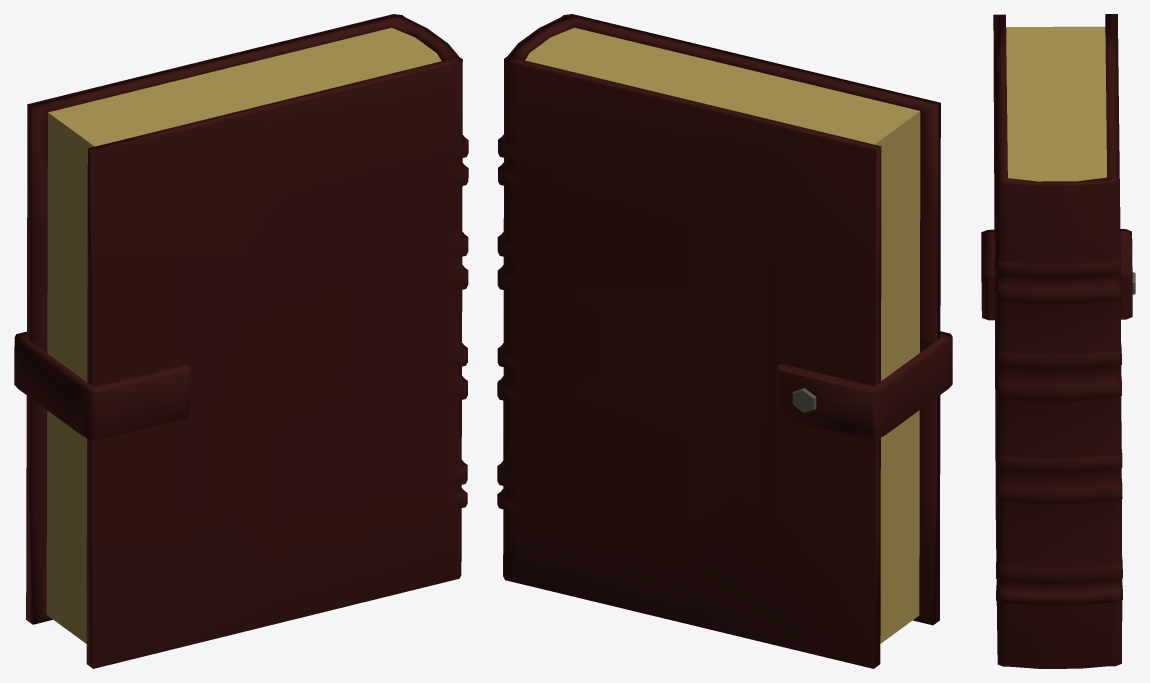
The model's file is IM_Book_004 1.fbx.
The picture shows the model from 3 angles, left to right: view 1: azimuth 30°, elevation 25°; view 2: azimuth 150°, elevation 25°; view 3: azimuth 270°, elevation 25°; orthographic projection. The views are drawn at different scales.
Visible parts, largest first — view 1: IM_Book_001; view 2: IM_Book_001; view 3: IM_Book_001.
Part boxes in pixels (left/top/right/bottom): IM_Book_001: left=14, top=14, right=468, bottom=668; IM_Book_001: left=497, top=14, right=952, bottom=668; IM_Book_001: left=981, top=14, right=1135, bottom=668.
Size of the model in its own units: 41.27 by 51.79 by 15.02.
